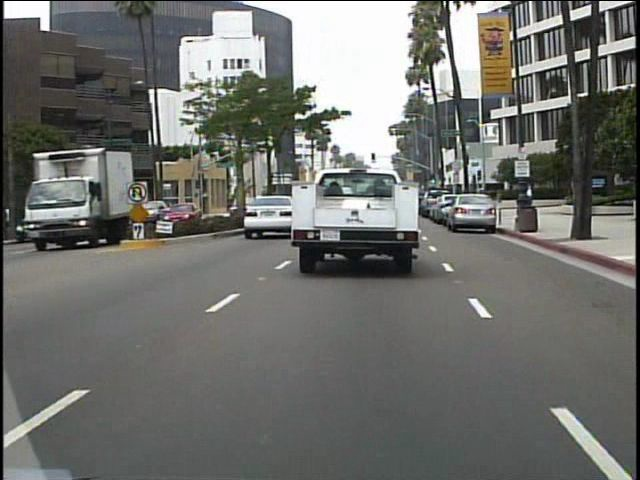person: (581, 178, 600, 222)
